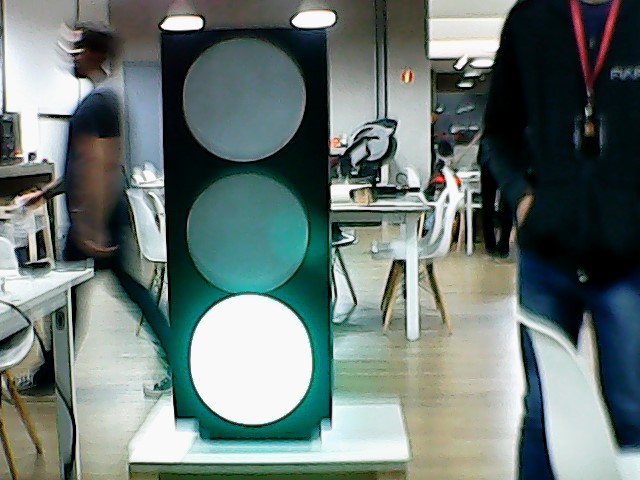verde: (152, 25, 340, 422)
